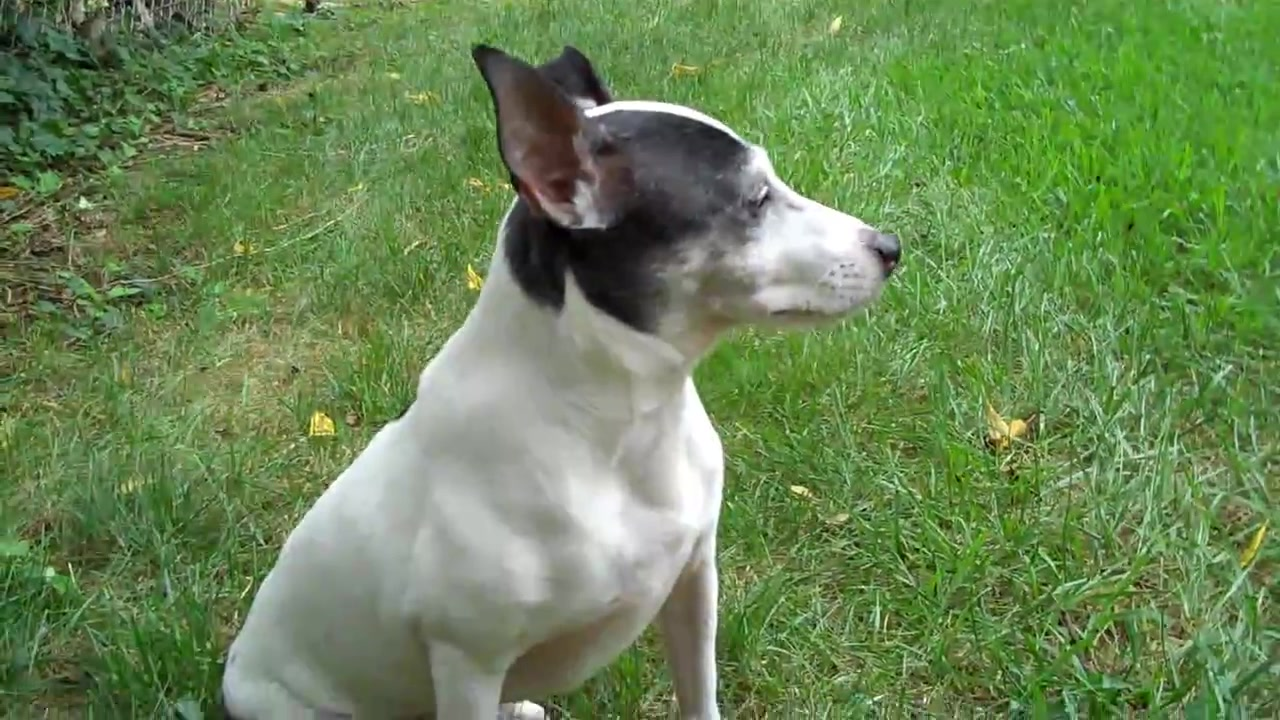dog: (220, 44, 903, 720)
